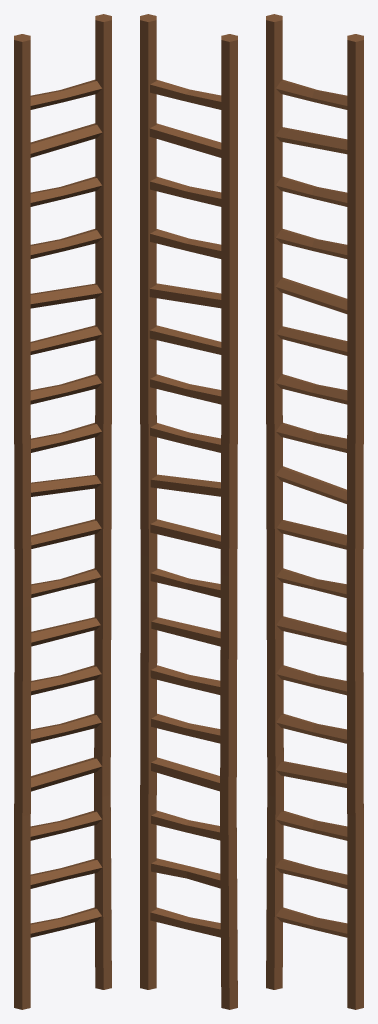
Rendered from medieval_ladder-wood.fbx.
3 renders of one model, left to right at view 1: azimuth 30°, elevation 25°; view 2: azimuth 150°, elevation 25°; view 3: azimuth 330°, elevation 25°, orthographic.
Visible parts, largest first — view 1: medieval_ladder_wood; view 2: medieval_ladder_wood; view 3: medieval_ladder_wood.
Boxes of the visible parts, x1,y1,x2,y2 form: medieval_ladder_wood: (14,14,111,1009); medieval_ladder_wood: (140,14,237,1009); medieval_ladder_wood: (266,14,363,1009).
Size of the model in its own units: 21.16 by 200 by 3.33.
